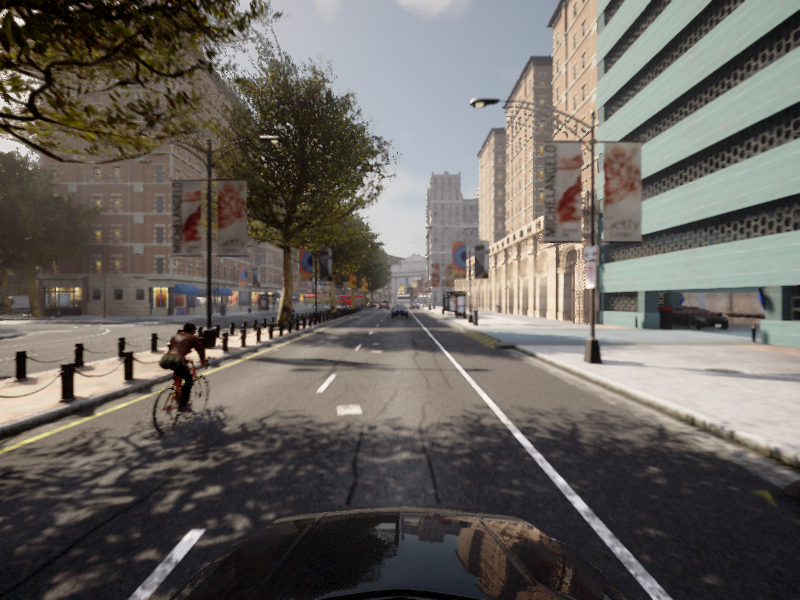vehicle: (132, 321, 225, 441), (391, 305, 408, 318), (285, 303, 297, 319)
